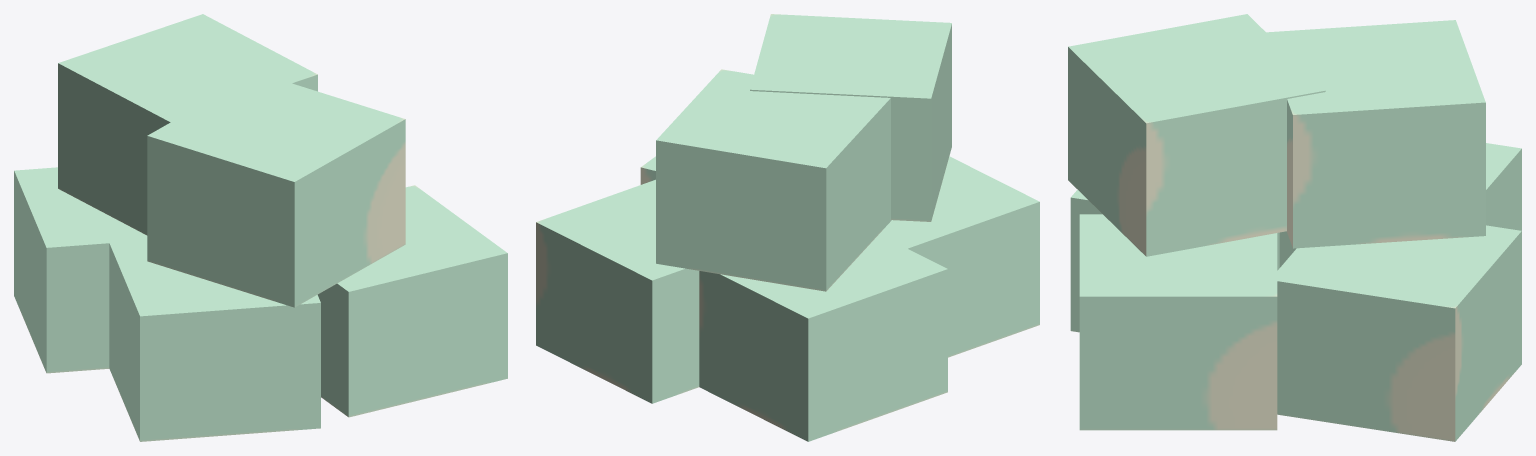
Rendered from bloquesdehielo.obj.
3 renders of one model, left to right at view 1: azimuth 30°, elevation 25°; view 2: azimuth 150°, elevation 25°; view 3: azimuth 270°, elevation 25°, orthographic. The views are drawn at different scales.
Visible parts, largest first — view 1: pCube8; view 2: pCube8; view 3: pCube8.
Boxes of the visible parts, x1,y1,x2,y2 form: pCube8: [14, 14, 507, 441]; pCube8: [536, 14, 1039, 441]; pCube8: [1068, 14, 1521, 441].
Bounding box in the file's own units: 1.8 × 1.2 × 1.83.
Materials: 1 (1 with a texture image).
